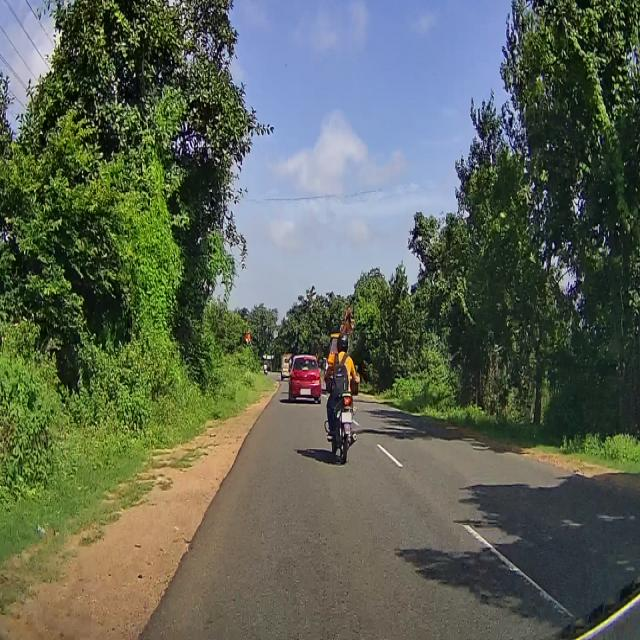car ahead at: (289, 346, 322, 405)
motorcycle ahead at: (322, 373, 360, 465)
